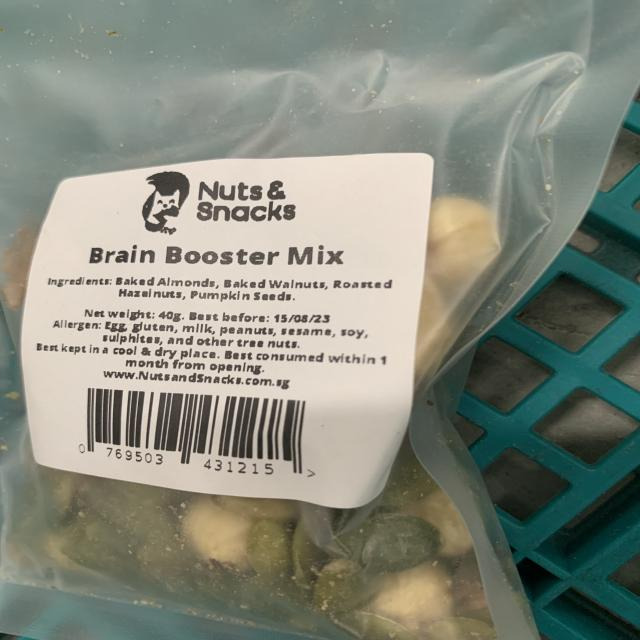object_name: (1, 0, 604, 640)
